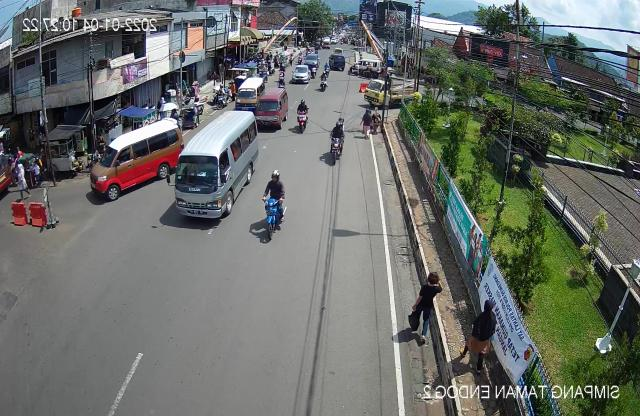Mobil: (165, 111, 260, 222), (85, 115, 186, 205), (226, 75, 265, 118), (252, 88, 288, 132)
Motor: (256, 168, 289, 240), (320, 115, 350, 170), (294, 98, 311, 134)
